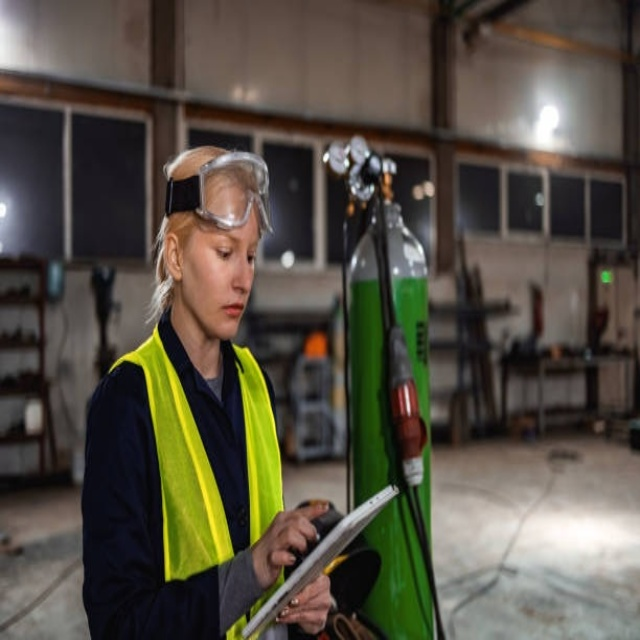Sin_gafas: (195, 232, 264, 273)
Sin_guantes: (249, 488, 332, 598), (272, 570, 336, 635)
Sin_mascara: (211, 292, 250, 337)
